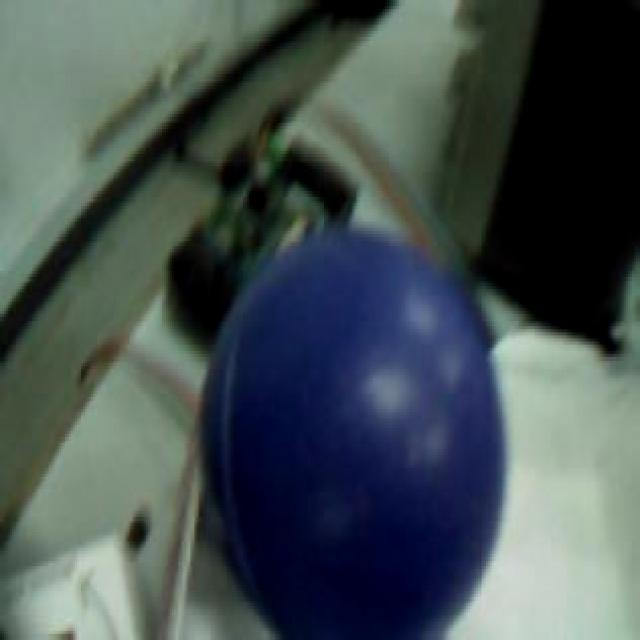BallPurple: (201, 227, 507, 637)
